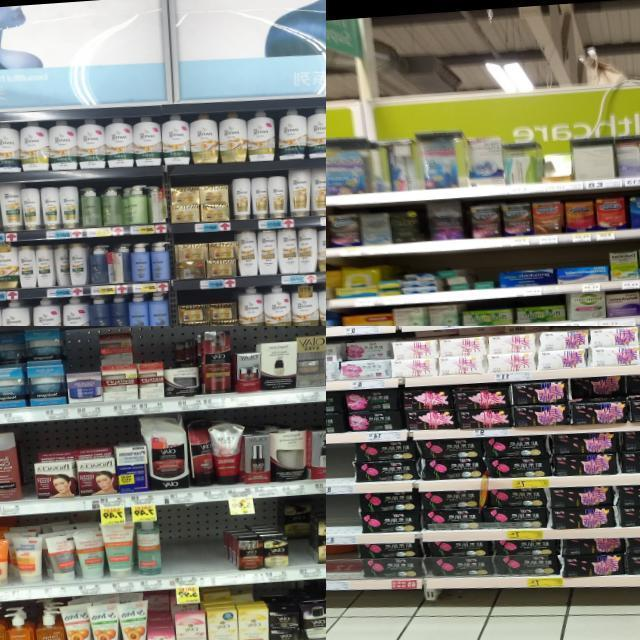empty: (159, 505, 224, 590), (326, 495, 359, 544), (326, 443, 354, 494)
